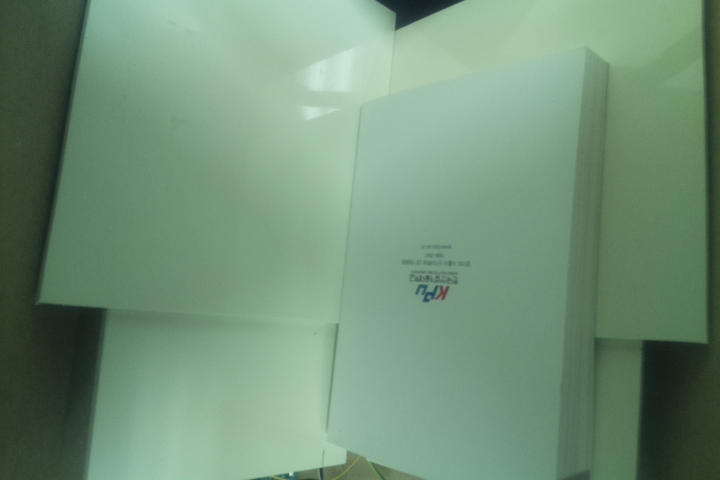book: (324, 43, 613, 477)
